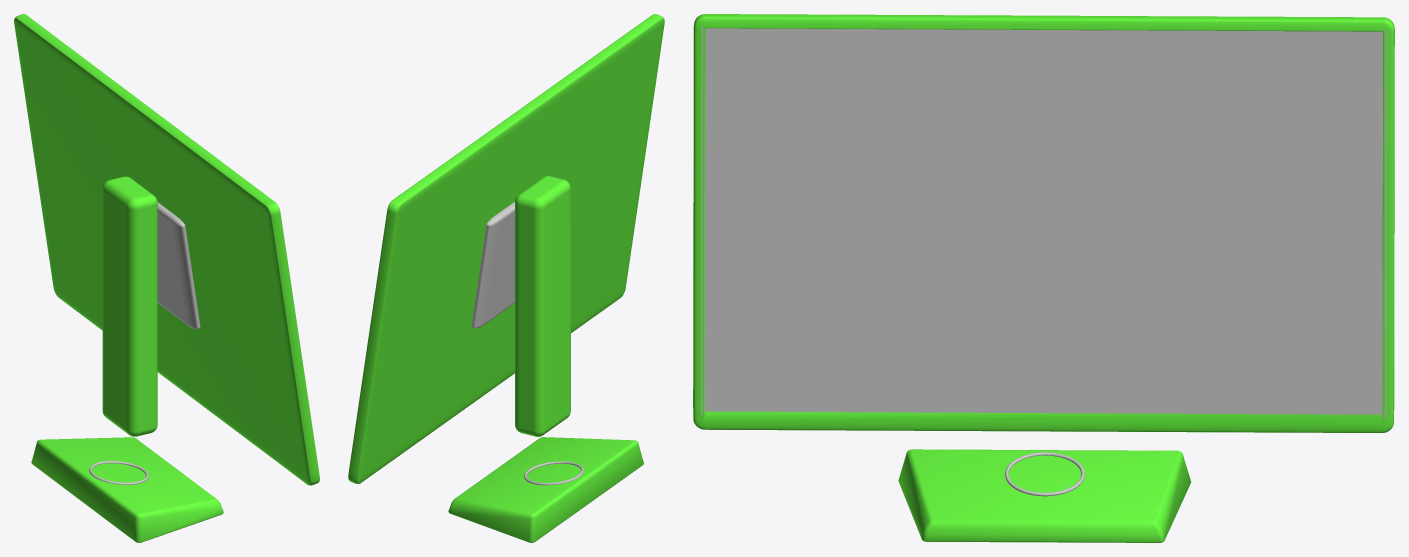
File: comp.obj
The picture shows the model from 3 angles, left to right: view 1: azimuth 30°, elevation 25°; view 2: azimuth 150°, elevation 25°; view 3: azimuth 270°, elevation 25°; orthographic projection. The views are drawn at different scales.
Visible parts, largest first — view 1: Cube.029, Cube.028, Cube.027, Cube.026, Torus; view 2: Cube.029, Cube.028, Cube.027, Cube.026, Torus; view 3: Plane.002, Cube.029, Cube.027.
Part boxes in pixels (box(x1,y1,x2,y2)): Cube.029: box(14, 14, 319, 485); Cube.028: box(102, 176, 157, 436); Cube.027: box(31, 437, 223, 542); Cube.026: box(157, 202, 200, 329); Torus: box(89, 461, 148, 484); Cube.029: box(348, 14, 664, 483); Cube.028: box(515, 176, 570, 436); Cube.027: box(448, 437, 643, 542); Cube.026: box(471, 202, 514, 328); Torus: box(524, 461, 583, 485); Plane.002: box(701, 26, 1387, 417); Cube.029: box(693, 14, 1394, 432); Cube.027: box(898, 449, 1191, 542).
Bounding box in the file's own units: 0.7878 × 2.55 × 3.2.
